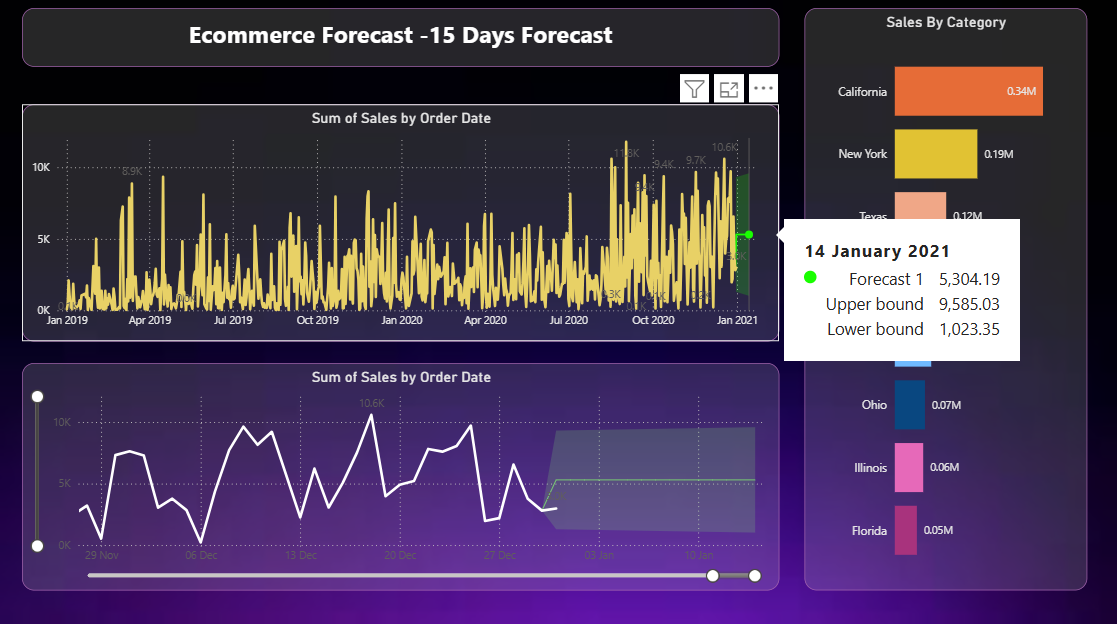

Layout of this report page (visuals, bound fields, positions):
{"tool":"powerbi","page":{"name":"Ecome_Forecast","canvas":[1280,720],"ordinal":1},"visuals":[{"type":"lineChart","fields":{"Y":["Sum(SuperStore_Sales_Dataset.Sales)"],"Category":["SuperStore_Sales_Dataset.Order Date"]},"box":[28.6,107.1,865.7,271.4],"z":0},{"type":"lineChart","fields":{"Y":["Sum(SuperStore_Sales_Dataset.Sales)"],"Category":["SuperStore_Sales_Dataset.Order Date"]},"box":[28.6,417.1,865.7,260],"z":1000},{"type":"textbox","box":[28.6,11.4,865.7,67.1],"z":2000},{"type":"clusteredBarChart","title":"Sales By Category","fields":{"Category":["SuperStore_Sales_Dataset.State"],"Y":["Sum(SuperStore_Sales_Dataset.Sales)"]},"box":[923.5,11,322.5,381.5],"z":3000},{"type":"tableEx","fields":{"Values":["SuperStore_Sales_Dataset.Category","Sum(SuperStore_Sales_Dataset.Sales)","Sum(SuperStore_Sales_Dataset.Profit)","SuperStore_Sales_Dataset.Region"]},"box":[922.9,417.1,321.4,260],"z":4000}]}

Visuals, with their boxes in screenshot pixels (x1, y1, x2, y2), scaled from the page's 1280x720 canvas onto the 1117x624 screenshot:
lineChart - Sum(SuperStore_Sales_Dataset.Sales) x SuperStore_Sales_Dataset.Order Date: <bbox>25, 93, 780, 328</bbox>
lineChart - Sum(SuperStore_Sales_Dataset.Sales) x SuperStore_Sales_Dataset.Order Date: <bbox>25, 361, 780, 587</bbox>
textbox: <bbox>25, 10, 780, 68</bbox>
"Sales By Category" clusteredBarChart: <bbox>806, 10, 1087, 340</bbox>
tableEx - SuperStore_Sales_Dataset.Category x Sum(SuperStore_Sales_Dataset.Sales): <bbox>805, 361, 1086, 587</bbox>
